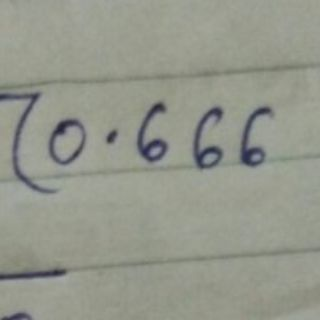.: (102, 127, 121, 147)
0: (47, 114, 89, 168)
6: (189, 104, 227, 174), (236, 105, 276, 169), (134, 99, 172, 163)
